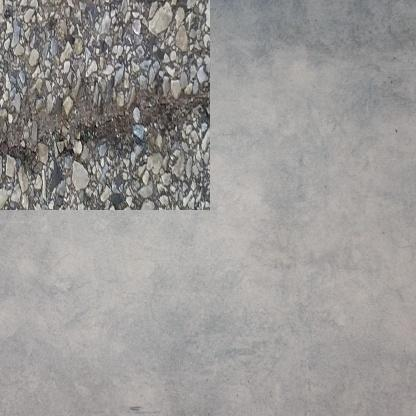Cracks: (0, 81, 194, 155)
